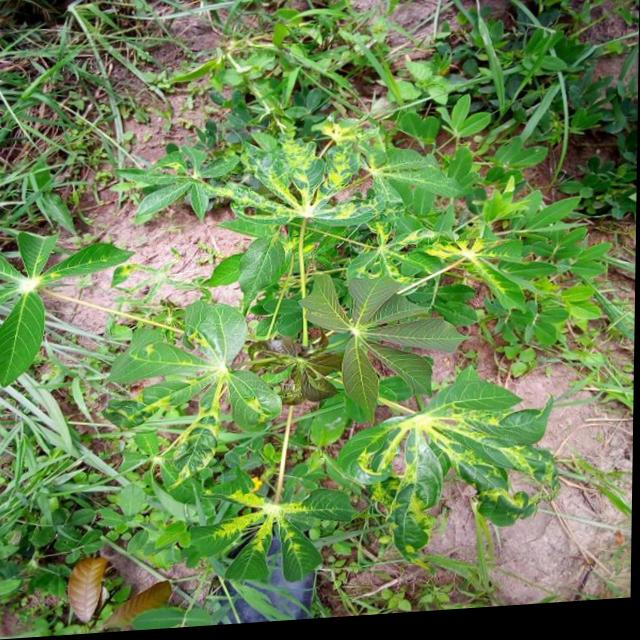Mosaico: (112, 298, 280, 438), (356, 404, 539, 530), (222, 136, 396, 229), (190, 471, 347, 568), (414, 214, 534, 300)
